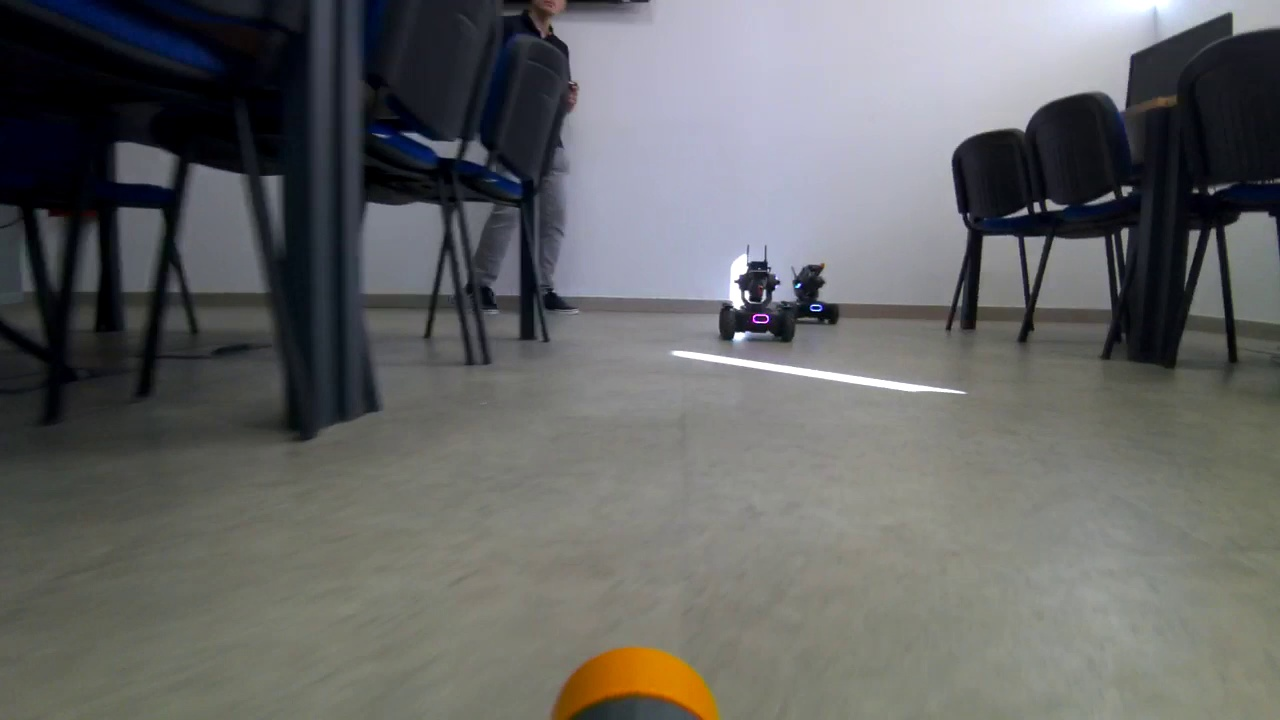robot: (717, 255, 800, 347), (772, 263, 852, 329)
